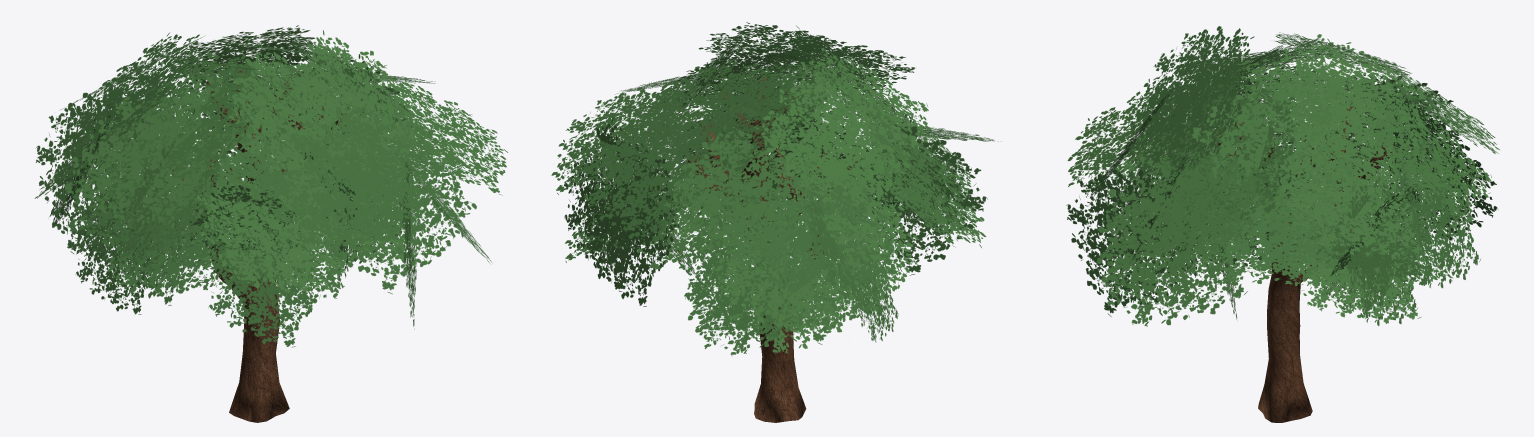
3 renders of one model, left to right at view 1: azimuth 30°, elevation 25°; view 2: azimuth 150°, elevation 25°; view 3: azimuth 270°, elevation 25°, orthographic. The views are drawn at different scales.
Visible parts, largest first — view 1: polySurface72, tree; view 2: polySurface72, tree; view 3: polySurface72, tree.
Boxes of the visible parts, left/top/right/bottom form: polySurface72: left=34, top=25, right=507, bottom=347; tree: left=171, top=67, right=346, bottom=422; polySurface72: left=551, top=22, right=1001, bottom=356; tree: left=687, top=75, right=857, bottom=422; polySurface72: left=1066, top=26, right=1499, bottom=326; tree: left=1216, top=105, right=1394, bottom=422.
Size of the model in its own units: 0.3134 by 0.272 by 0.3034.
Materials: 2 (2 with a texture image).
